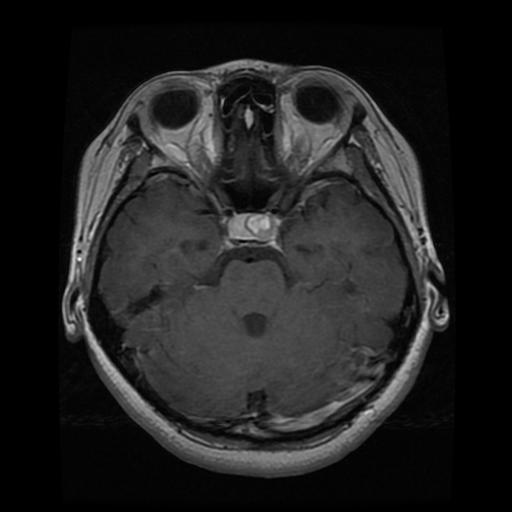Pituirity_tumour: (228, 212, 276, 239)
